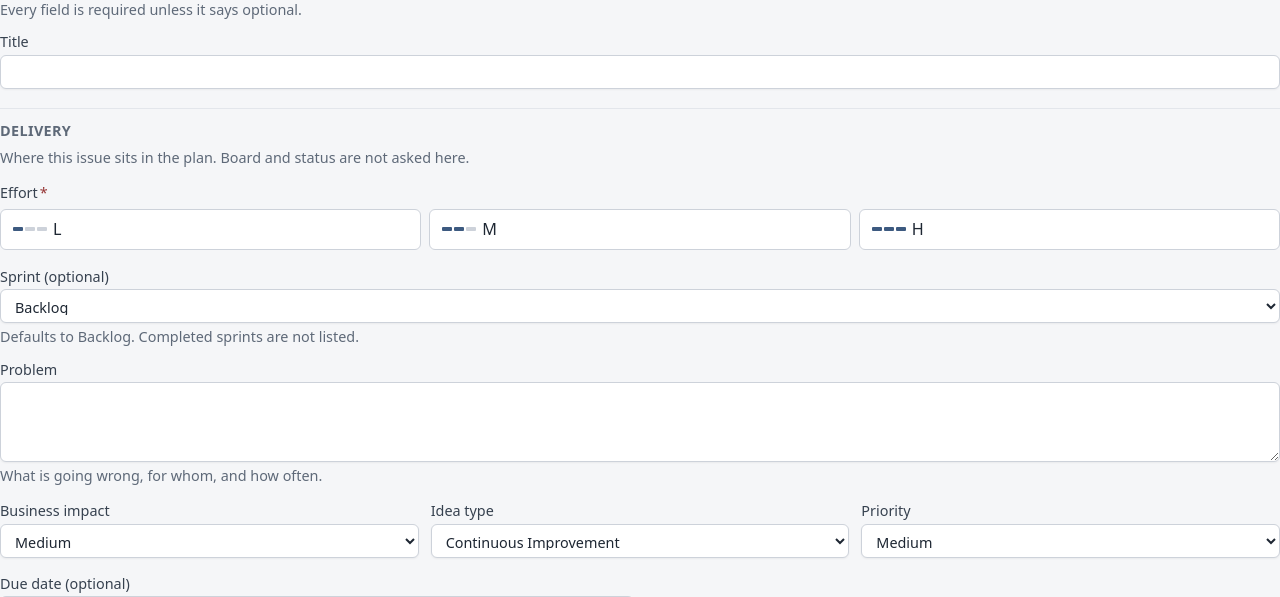
Test: IdeaForm adding an Issue › asks for an Effort before sending anything, beside the radios
In the field labelled "Title": (640, 72) [0,55,1279,89], type "Fix the dock door"
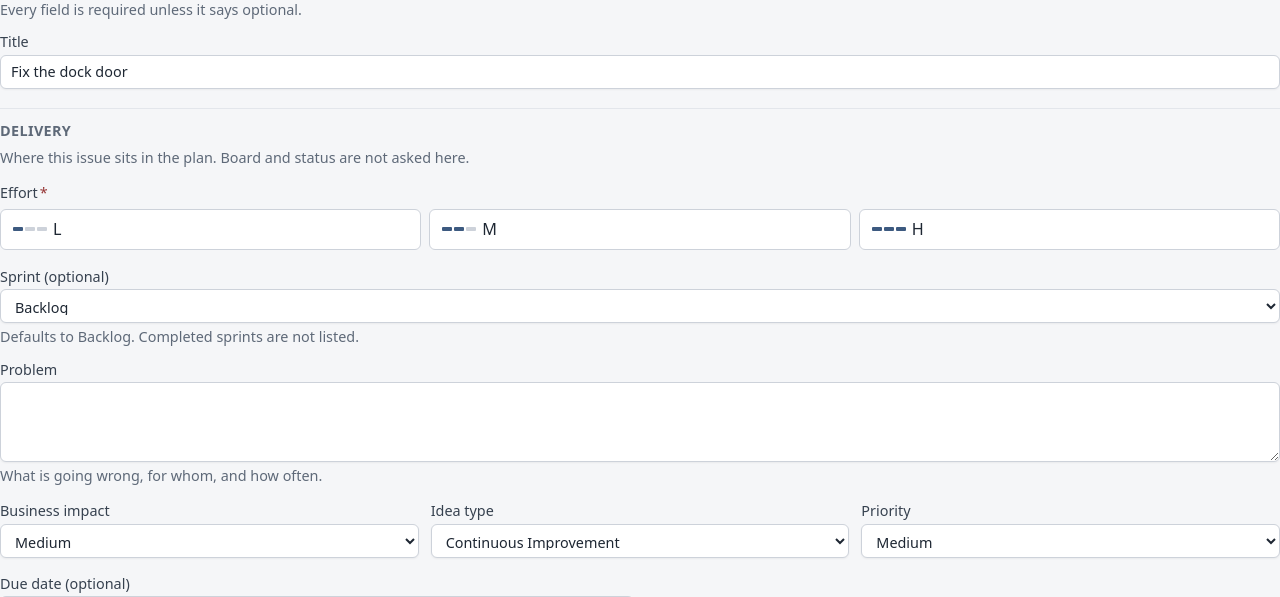
In the text box labelled "Problem": (640, 422) [0,382,1279,462], type "It jams."
(page scrolled)
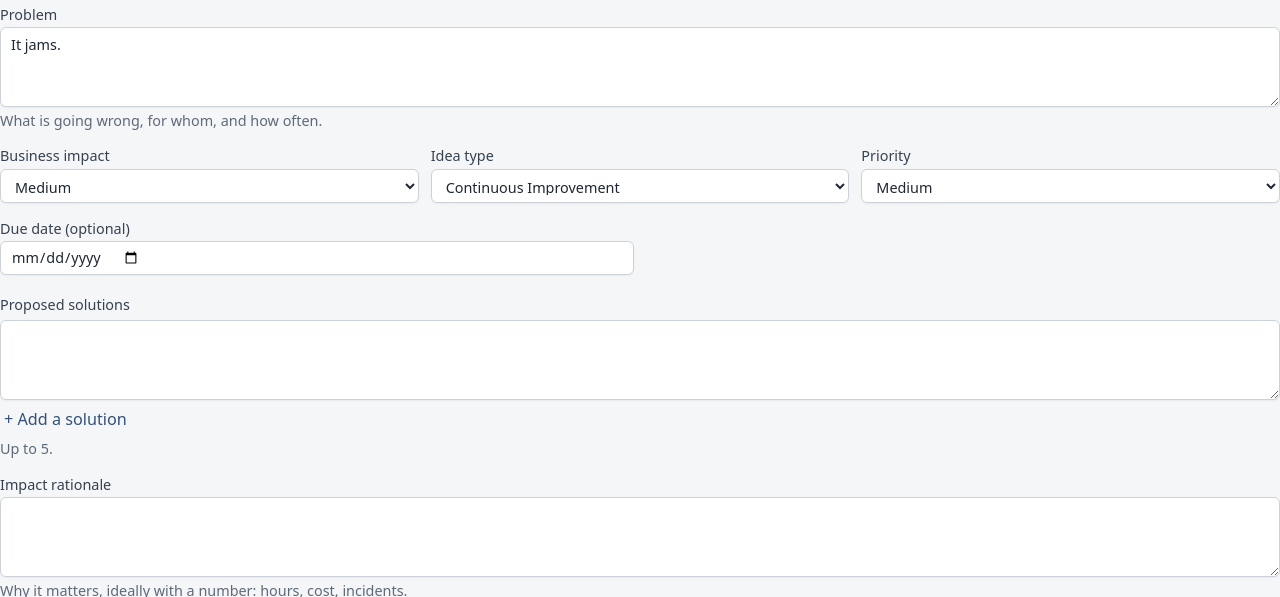
In the text box named "Solution 1": (640, 360) [0,320,1279,400], type "New track"
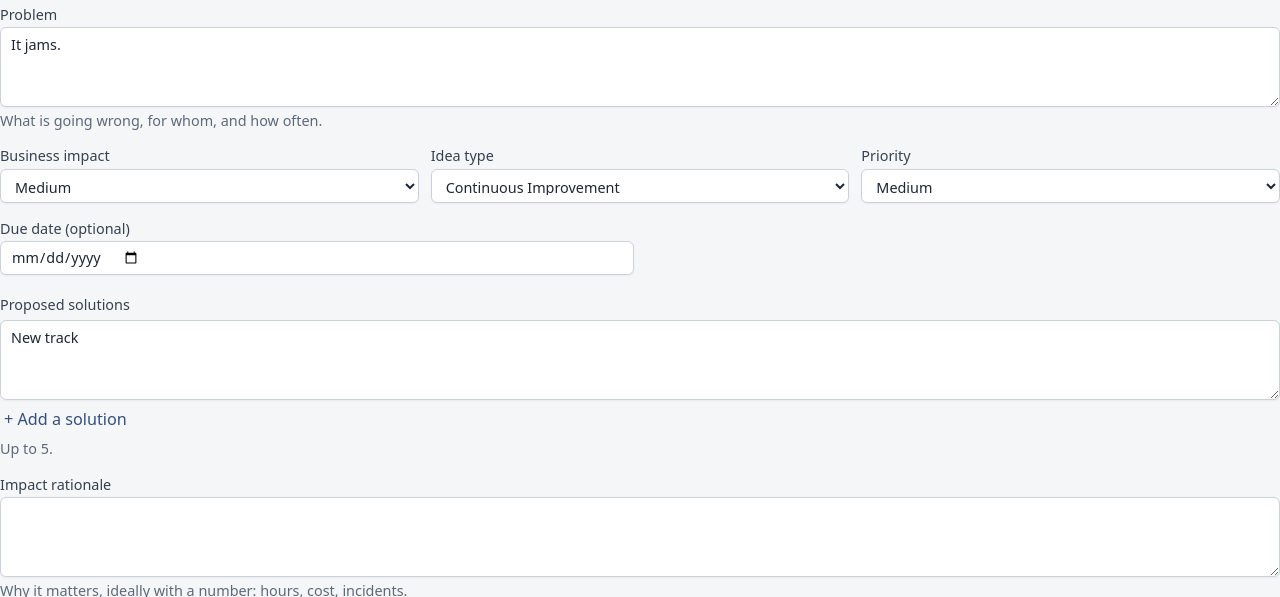
In the text box labelled "Impact rationale": (640, 537) [0,497,1279,577], type "Hours."
(page scrolled)
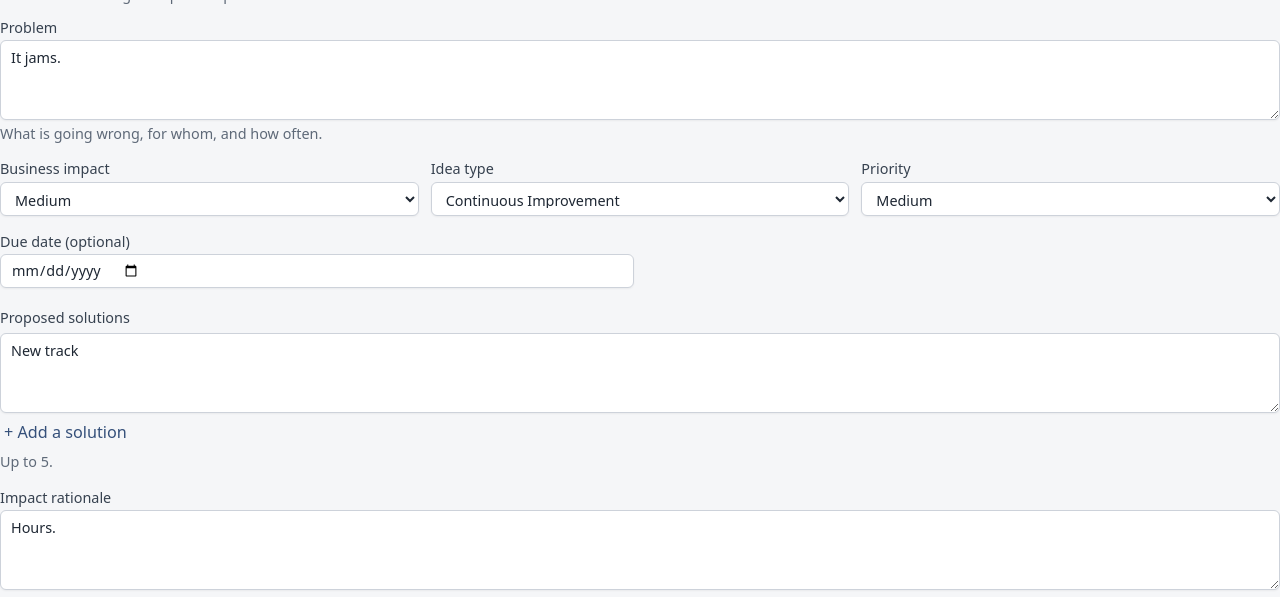
Submit the form
(page scrolled)
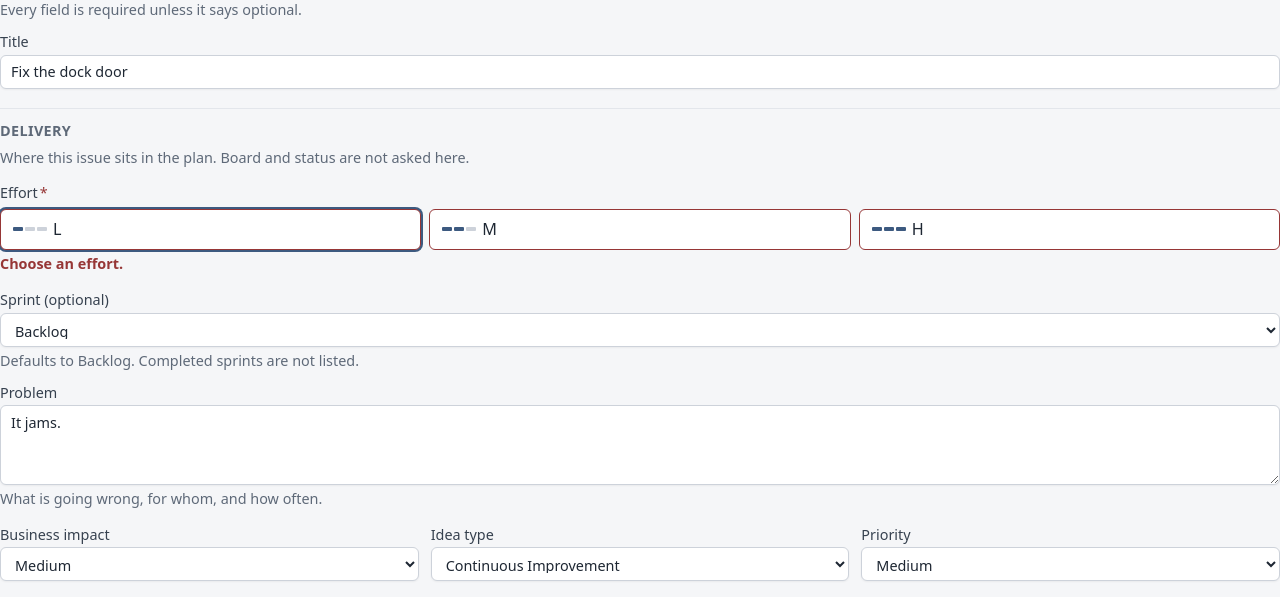
Expected: the text "Choose an effort." is shown, [0,254,123,273]
